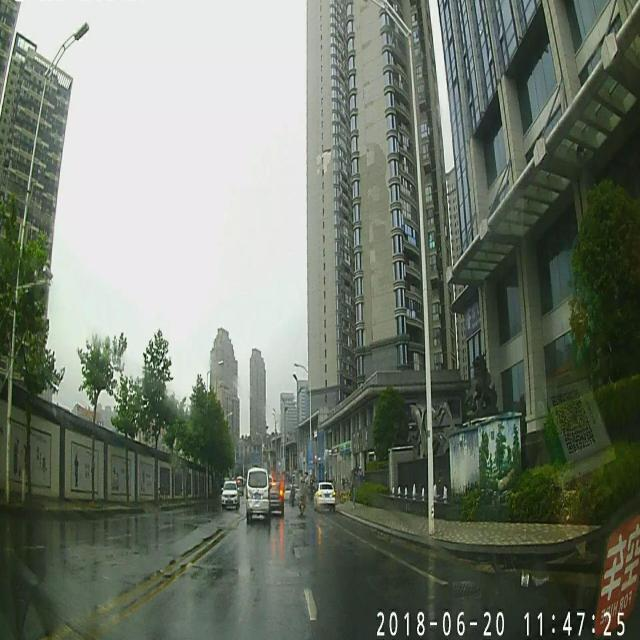car: (246, 468, 270, 515), (220, 478, 237, 512), (310, 484, 338, 499)
